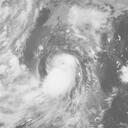cyclone: (43, 53, 82, 97)
